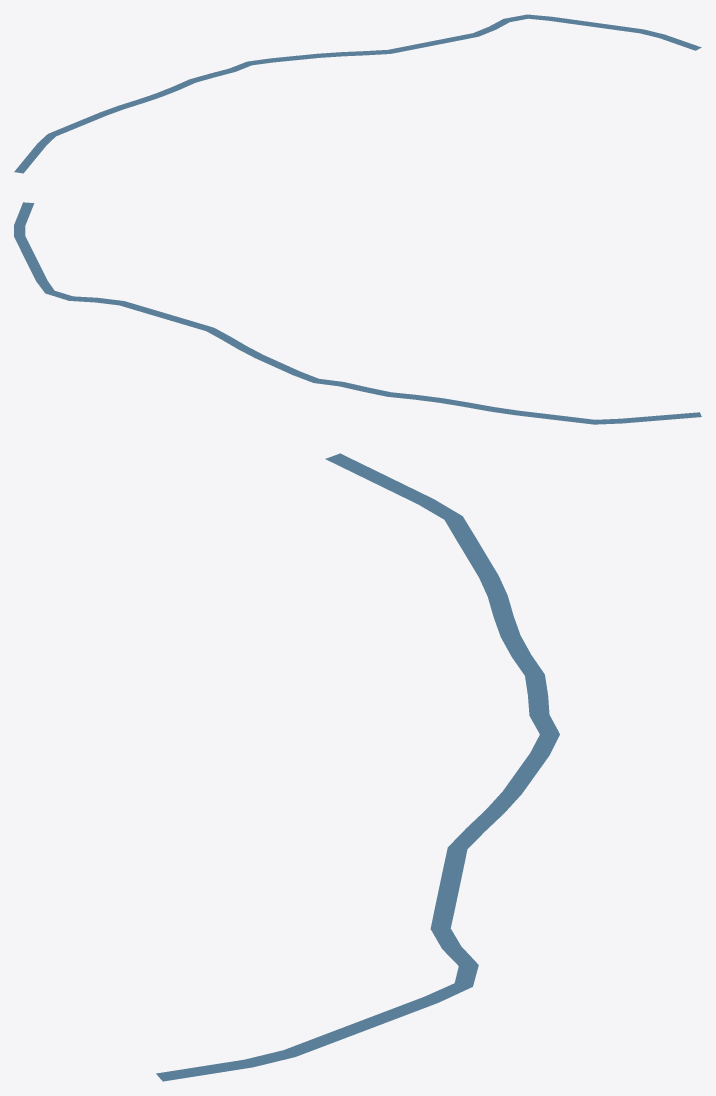
Rendered from c_1645_17833_water.glb.
3 renders of one model, top to bottom at view 1: azimuth 30°, elevation 25°; view 2: azimuth 150°, elevation 25°; view 3: azimuth 270°, elevation 25°, orthographic. The views are drawn at different scales.
Visible parts, largest first — view 1: geometry_0; view 2: geometry_0; view 3: geometry_0.
Boxes of the visible parts, box(x1,y1,x2,y2) form: geometry_0: box(14, 14, 701, 173); geometry_0: box(14, 202, 701, 424); geometry_0: box(156, 453, 559, 1081).
Bounding box in the file's own units: 183 × 0 × 49.9.
